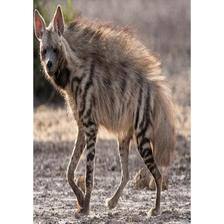hyena: (34, 1, 188, 224)
